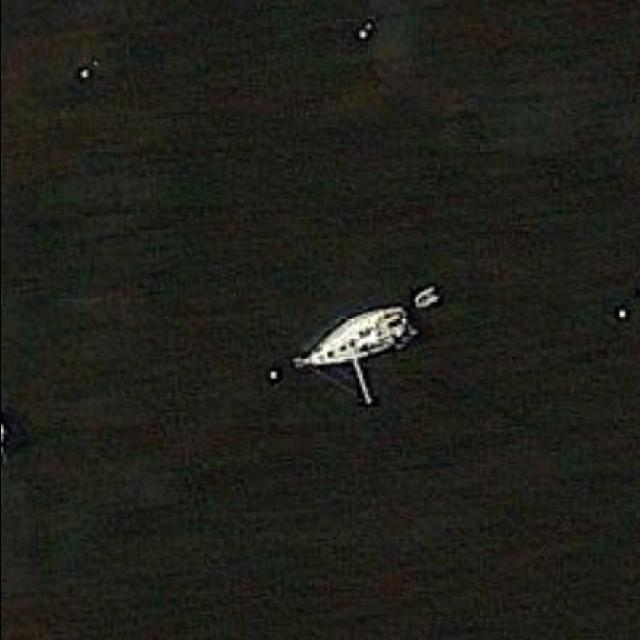ship: (291, 302, 421, 406)
